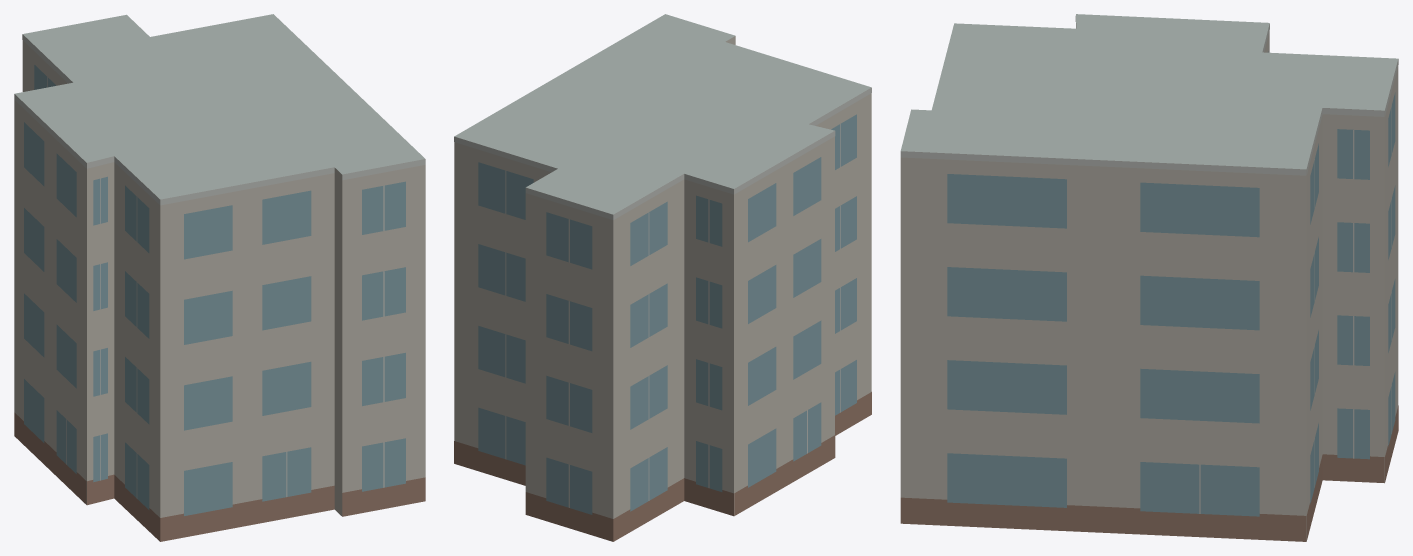
The model's file is survey-upis-32501407.glb.
3 views of the same model, side by side, from view 1: azimuth 30°, elevation 25°; view 2: azimuth 150°, elevation 25°; view 3: azimuth 270°, elevation 25° (orthographic). The views are drawn at different scales.
Visible parts, largest first — view 1: survey-upis-32501407.tmp; view 2: survey-upis-32501407.tmp; view 3: survey-upis-32501407.tmp.
Boxes of the visible parts, x1,y1,x2,y2 form: survey-upis-32501407.tmp: (14, 14, 425, 541); survey-upis-32501407.tmp: (454, 14, 871, 541); survey-upis-32501407.tmp: (900, 14, 1398, 541).
Bounding box in the file's own units: 12.78 × 14.27 × 17.29.
